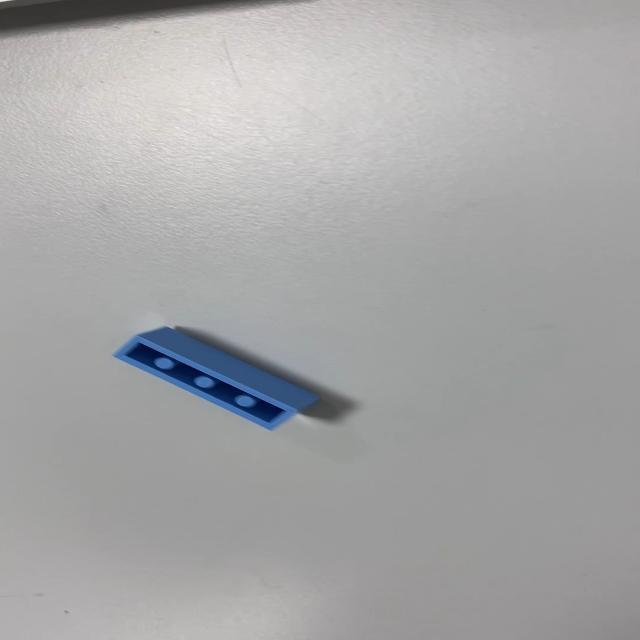C4x1x1: (110, 325, 321, 431)
